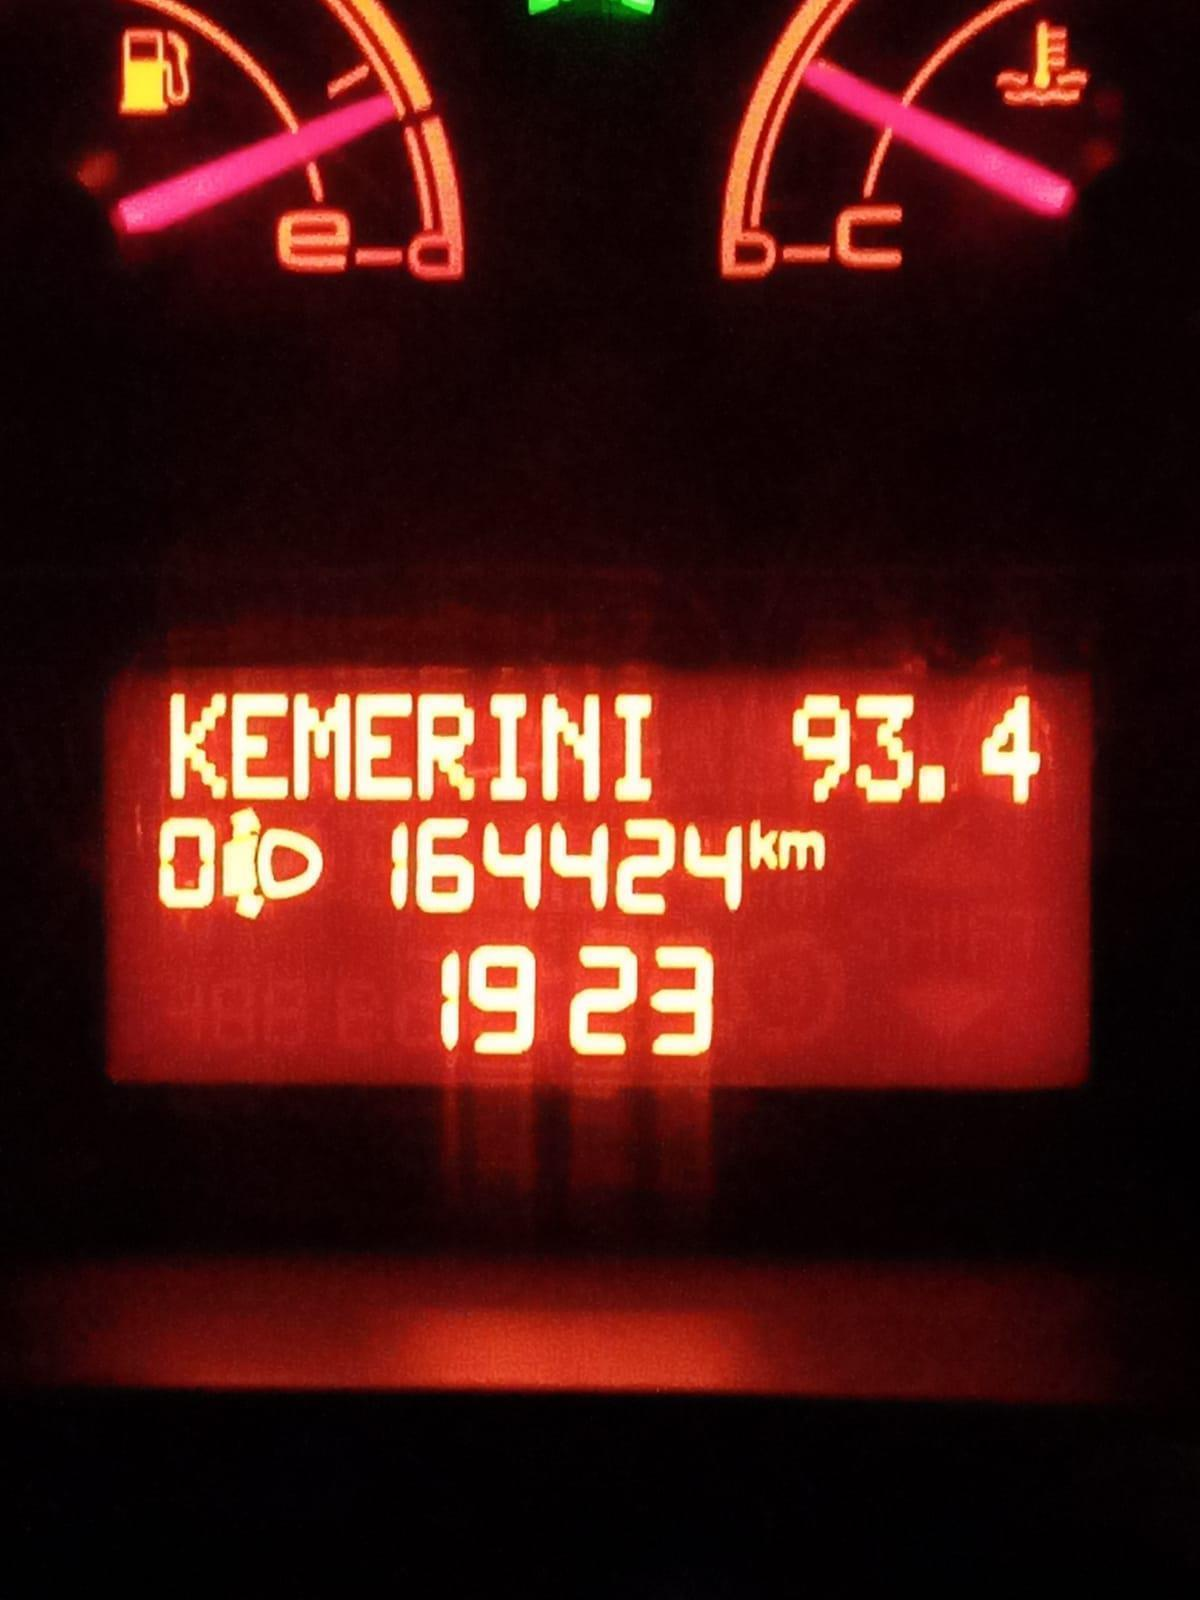,: (920, 757, 950, 810)
0: (151, 813, 217, 918)
1: (434, 937, 468, 1068), (382, 810, 411, 927)
2: (567, 937, 637, 1062), (616, 808, 676, 922)
3: (650, 941, 717, 1066), (853, 689, 916, 808)
4: (978, 690, 1042, 813), (679, 815, 744, 921), (479, 814, 546, 911), (546, 813, 611, 911)
6: (415, 813, 476, 921)
9: (470, 936, 542, 1058), (790, 689, 851, 806)
X: (541, 687, 603, 806), (166, 688, 231, 803), (355, 687, 413, 804), (294, 687, 352, 804), (232, 690, 286, 805), (418, 689, 473, 803), (613, 687, 658, 803), (488, 688, 529, 809), (778, 828, 829, 873), (749, 815, 778, 873)
odometer: (98, 650, 1118, 1106)
